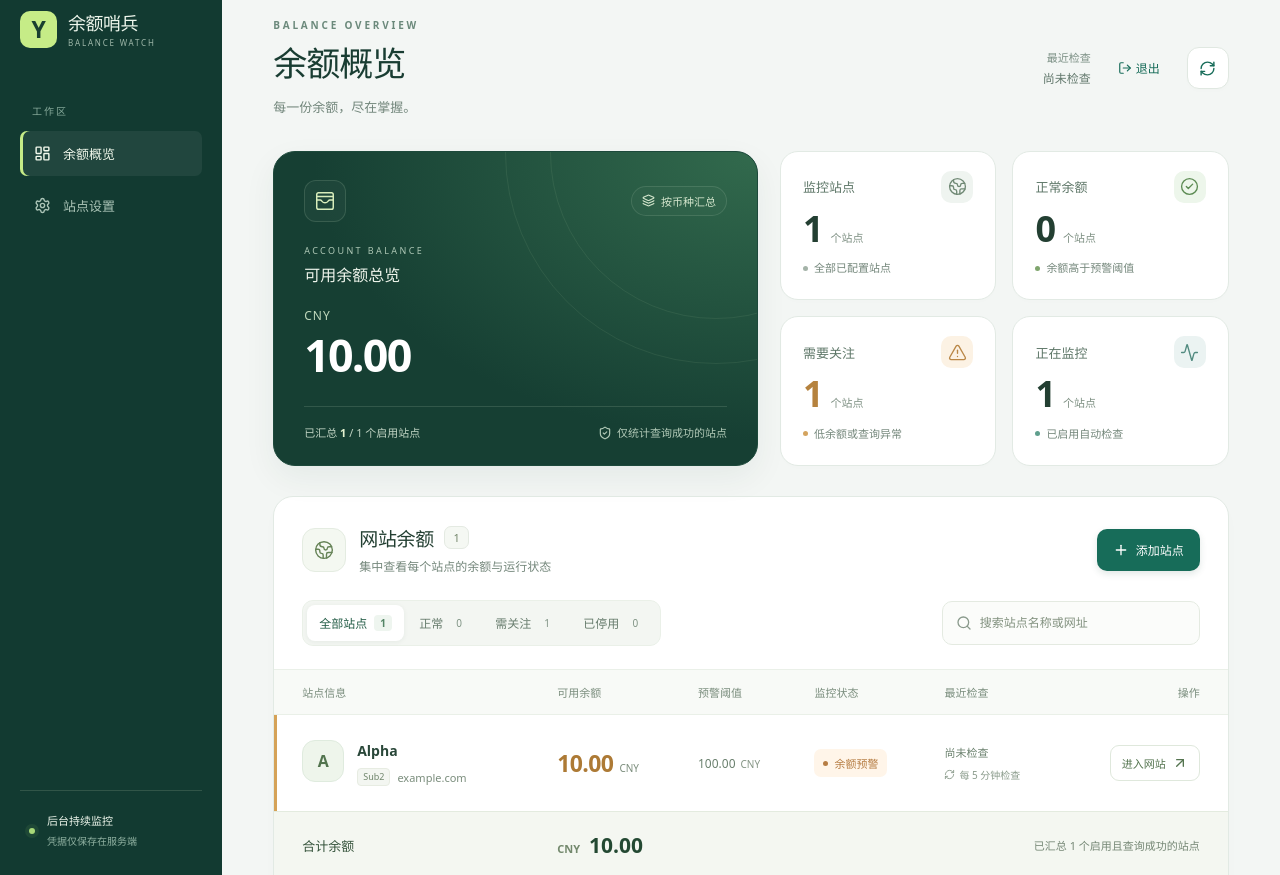
Test: React 页面流程 › 站点详情显示未触发通知的原因
What coordinates should you click on to do the following:
click the button "Alpha"
I would click on:
 (377, 750)
Its box is 357,740 -> 398,761.
(page scrolled)
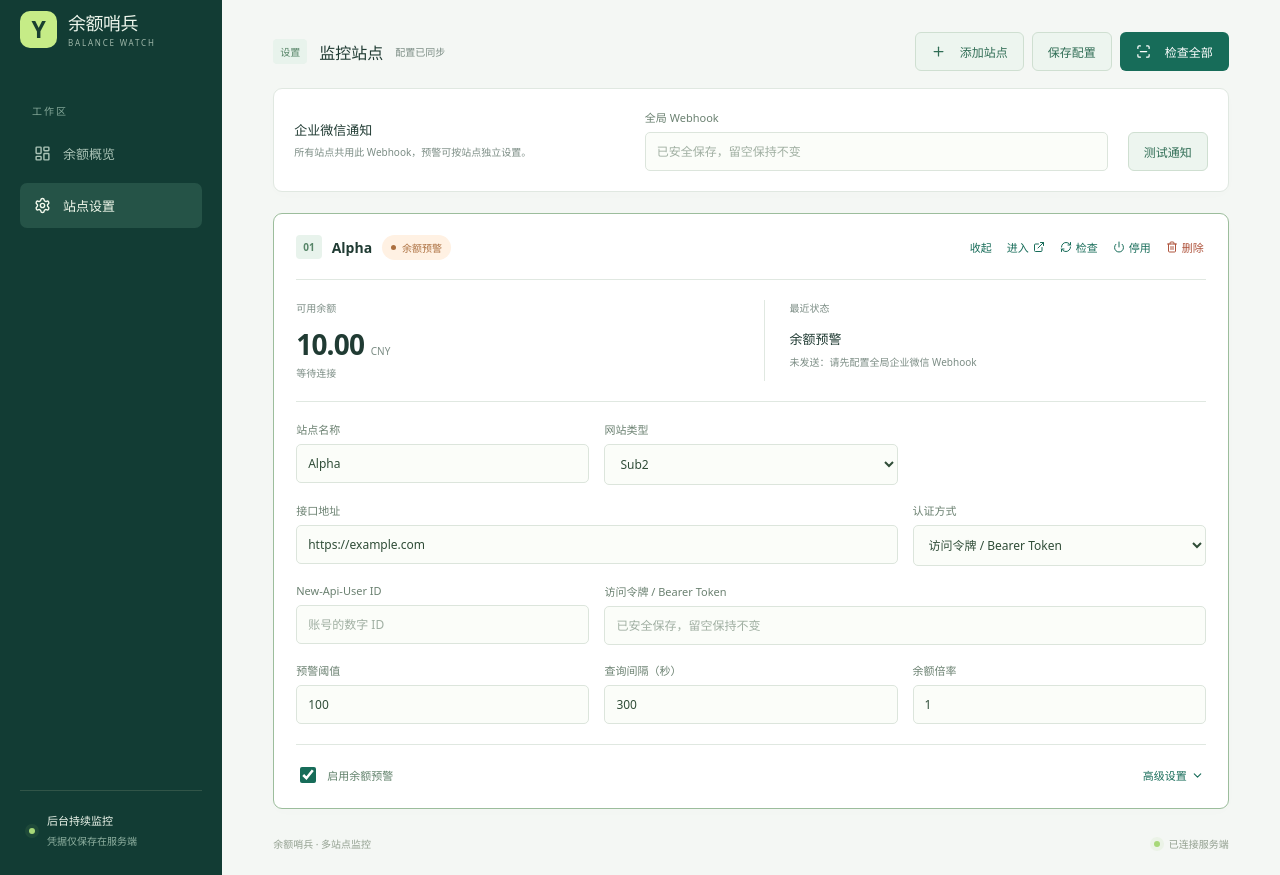
expect the text "未发送：请先配置全局企业微信 Webhook" is shown: met, box 790,355 -> 977,369
